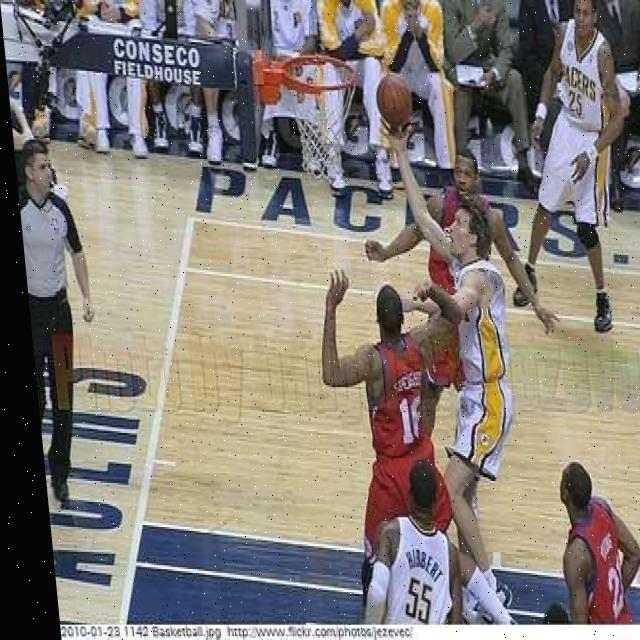basketball: (372, 71, 415, 128)
hoop: (277, 51, 368, 189)
